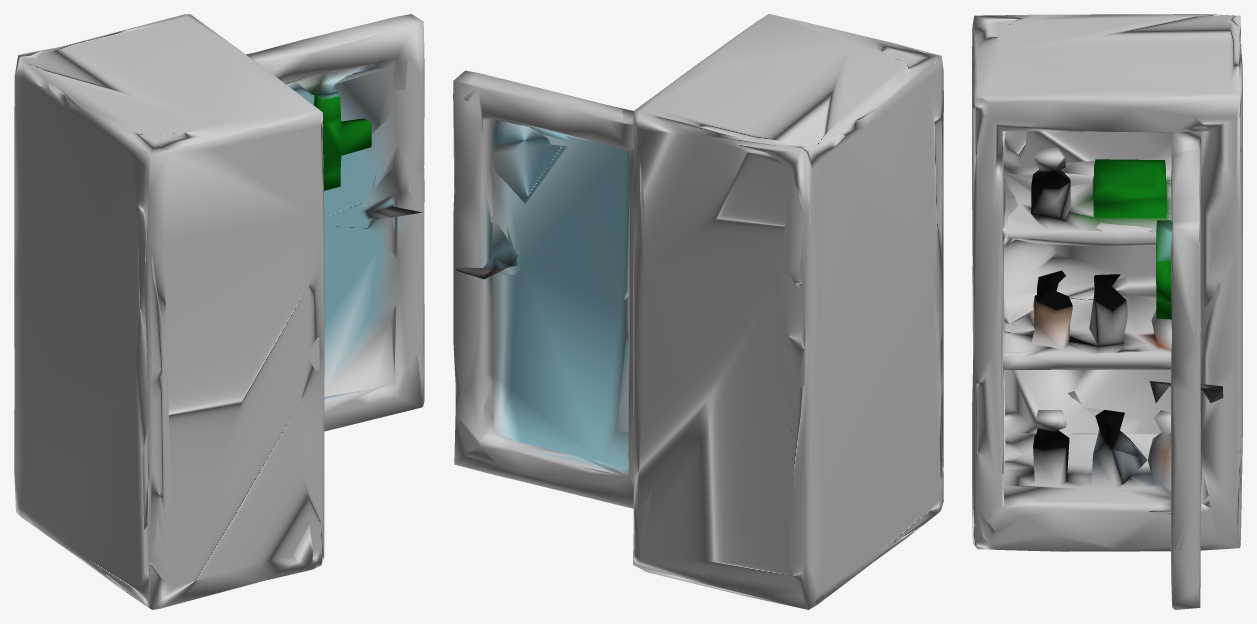
Rendered from gen3d-medicine-cabinet-lod0.glb.
3 views of the same model, side by side, from view 1: azimuth 30°, elevation 25°; view 2: azimuth 150°, elevation 25°; view 3: azimuth 270°, elevation 25° (orthographic).
Visible parts, largest first — view 1: part_0; view 2: part_0; view 3: part_0.
Boxes of the visible parts, bbox=[...] form: part_0: bbox=[14, 14, 424, 609]; part_0: bbox=[453, 14, 943, 609]; part_0: bbox=[972, 14, 1242, 609].
Size of the model in its own units: 0.8611 by 1 by 0.538.
